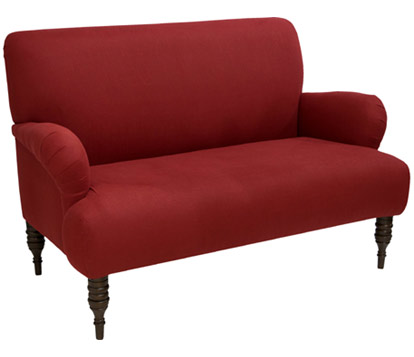chairs: (3, 19, 411, 337)
